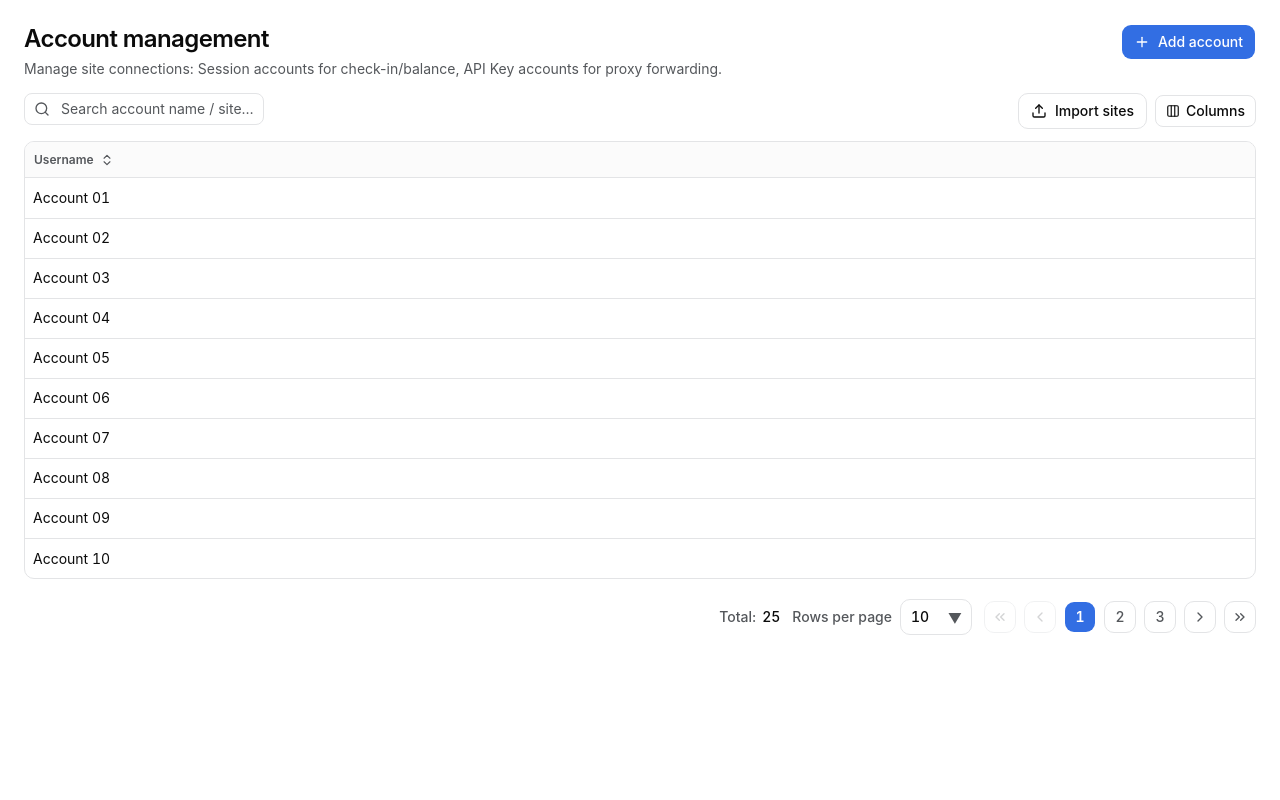
Test case: AccountsPage URL-controlled pagination › keeps page 2 selected and renders rows 11-20
The width and height of the screenshot is (1280, 800).
Expected: the text "Account 01" is shown, x1=25 y1=178 x2=1255 y2=218
Expected: the text "Account 10" is shown, x1=25 y1=538 x2=1255 y2=578
What coordinates should you click on to do the following:
click the button named "Go to page 2"
I would click on:
 (1120, 617)
Its box is x1=1104 y1=601 x2=1136 y2=633.
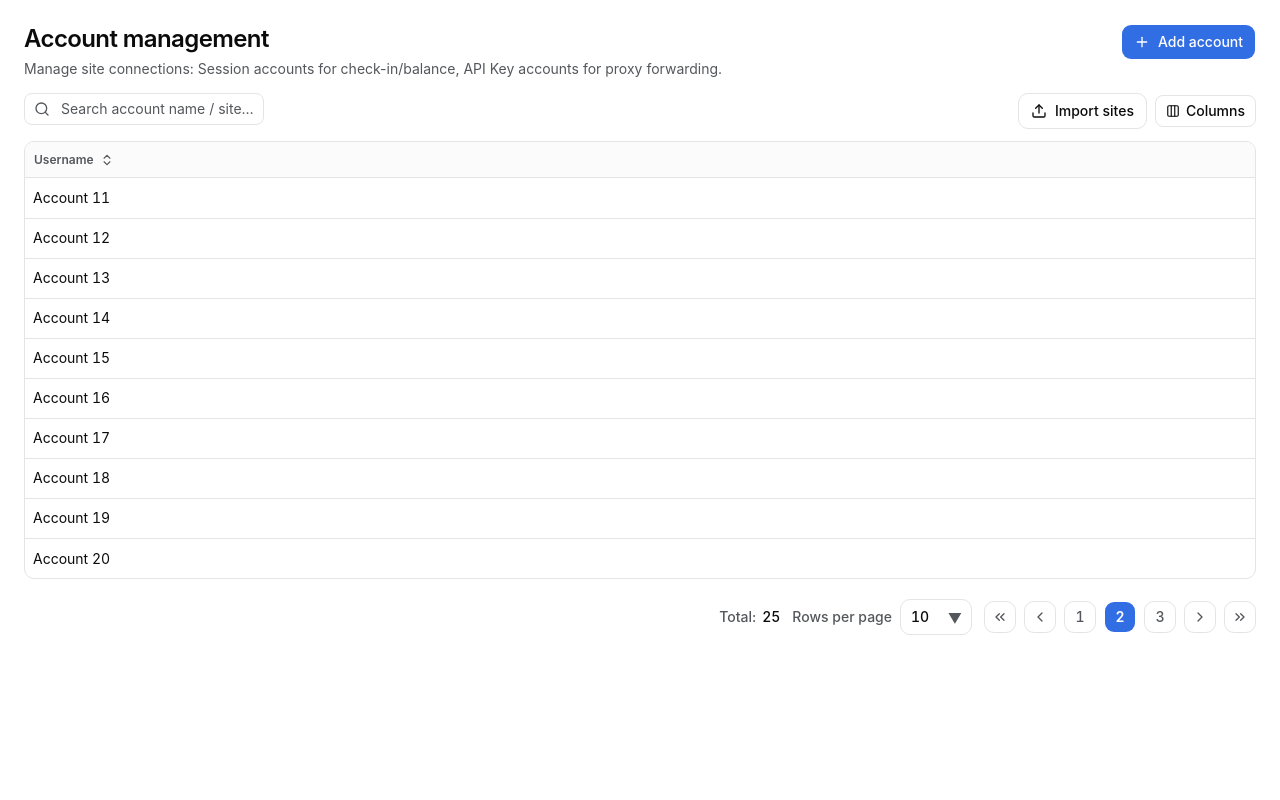
Result: the text "Account 11" is shown at x1=25 y1=178 x2=1255 y2=218
Result: the text "Account 01" is gone
Result: the text "Account 10" is gone
